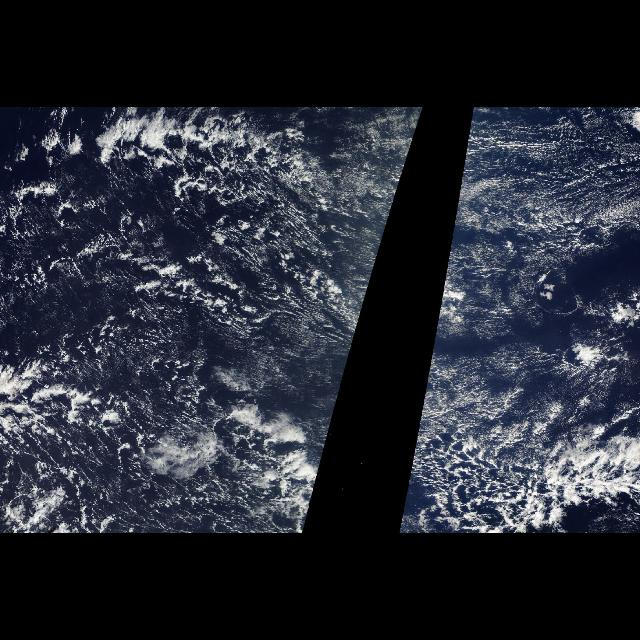Gravel: (7, 178, 326, 534)
Sugar: (416, 109, 640, 438), (306, 109, 422, 438)
